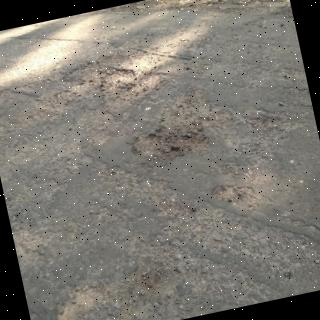pothole: (129, 86, 233, 163), (58, 61, 180, 116)
